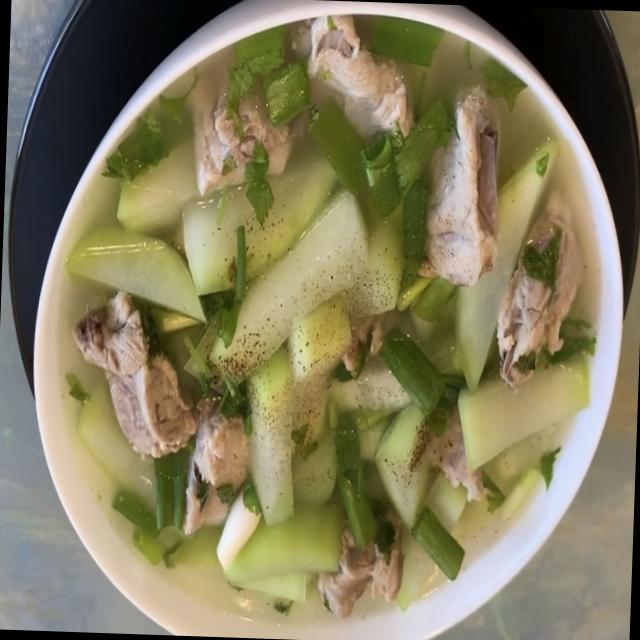canh bau: (64, 15, 600, 623)
